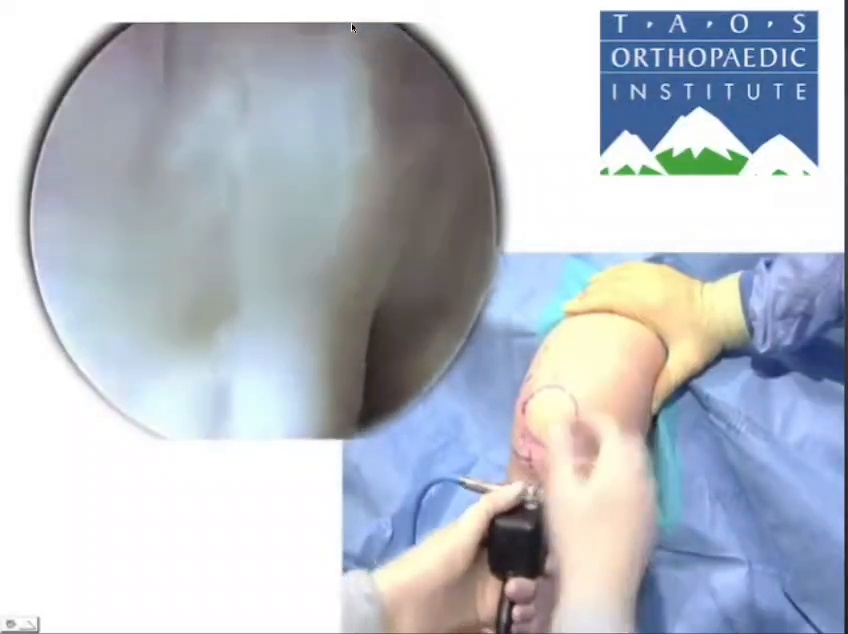arthroscope: (765, 372, 848, 634)
probe: (692, 543, 765, 600)
